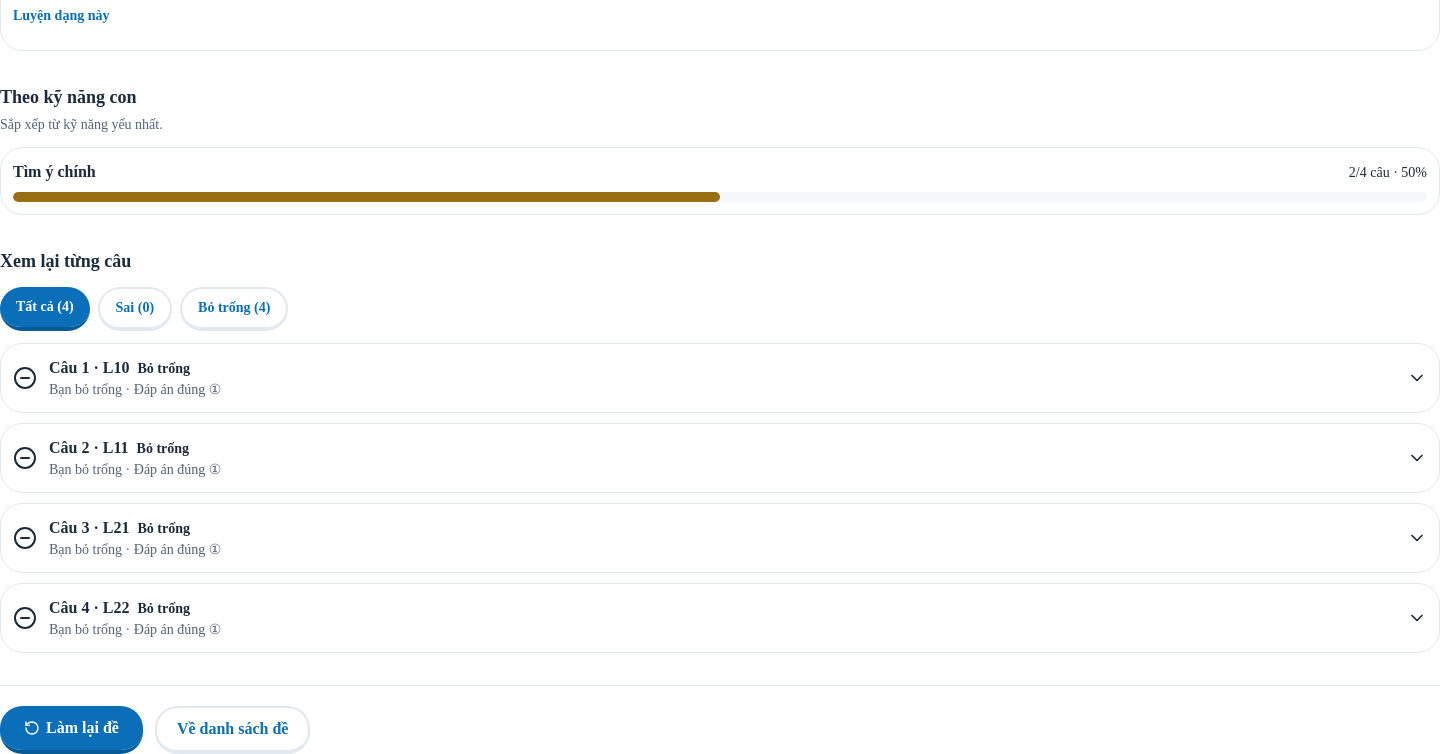
Test: ExamResultView: xem lại câu Nghe › có audio: trình phát luyện có công tắc bản dịch, bản dịch chỉ hiện sau khi bật
The width and height of the screenshot is (1440, 754).
(page scrolled)
Click the button "Câu 1 · L10Bỏ trống Bạn bỏ trống · Đáp án đúng ①" at [89, 368], box [1,344,1439,412]
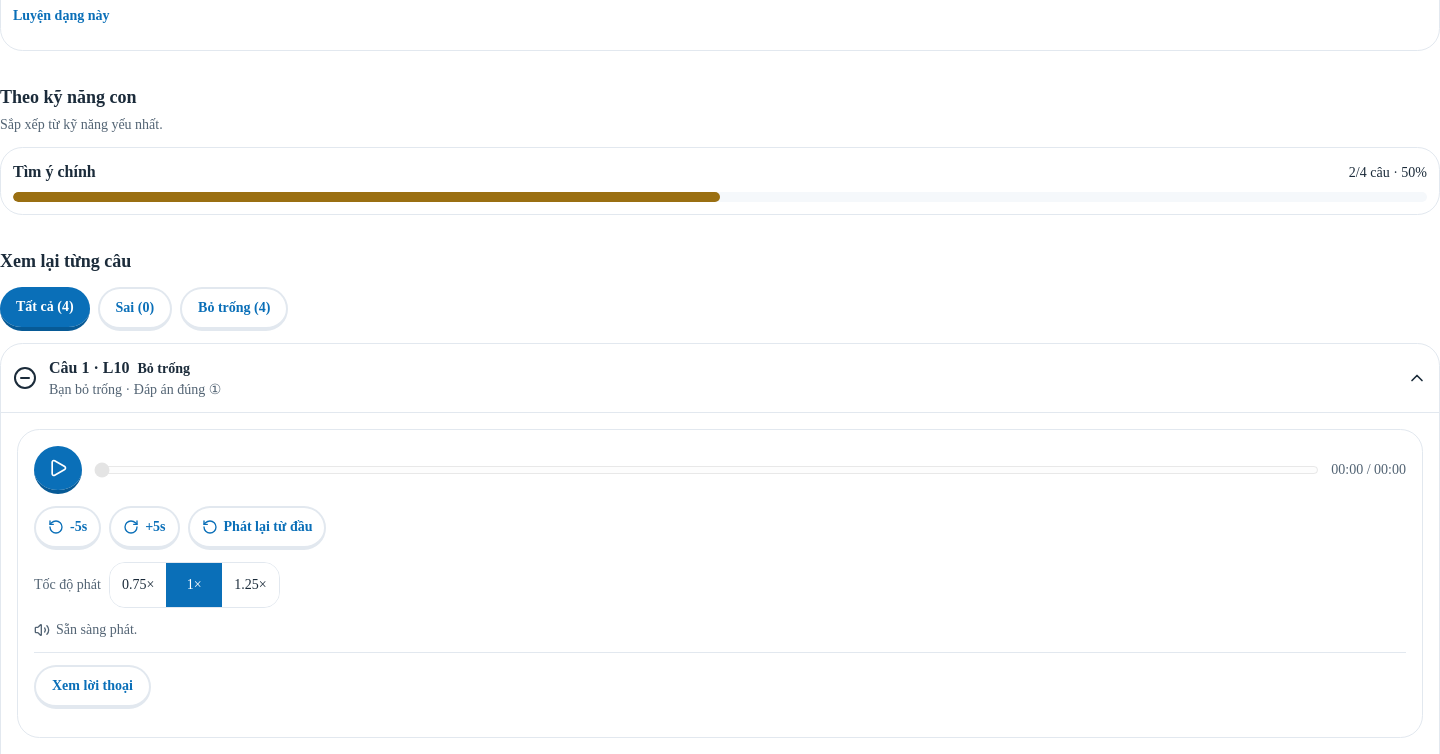
Expected: the text "Tôi muốn gửi chiếc váy này." is not shown
Click the button "Xem lời thoại" at [92, 687], box [34,665,151,709]
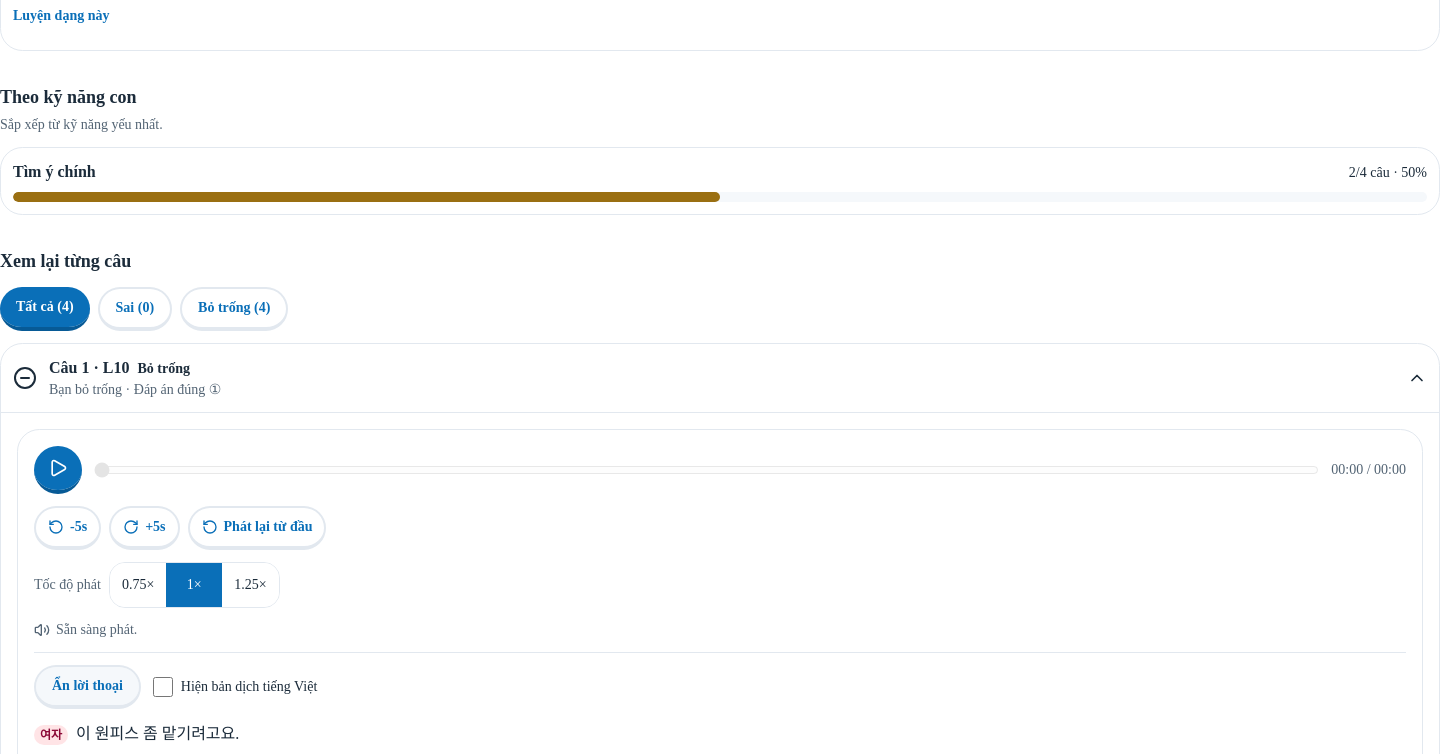
Click the checkbox labelled "Hiện bản dịch tiếng Việt" at [163, 687], box [153,677,173,697]
(page scrolled)
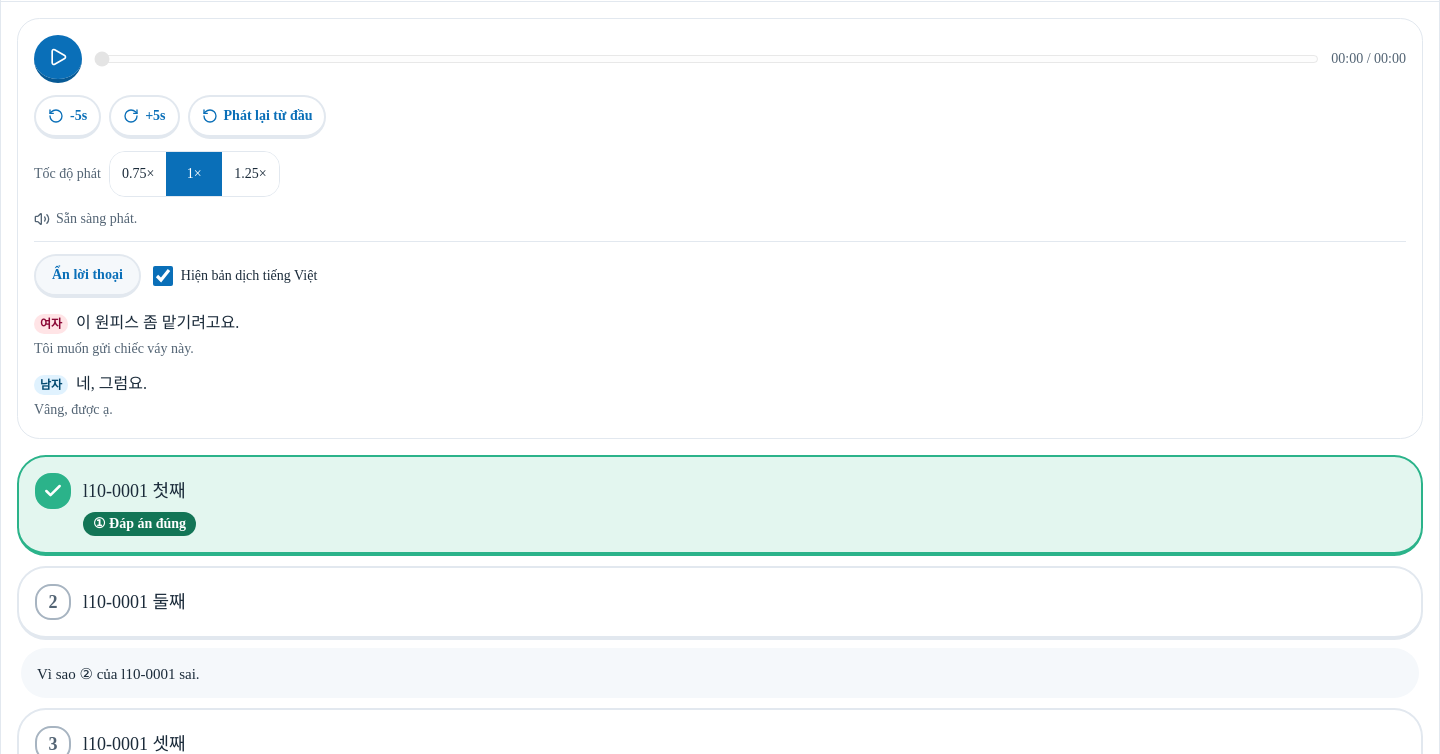
Expected: the text "Tôi muốn gửi chiếc váy này." is shown, [34,341,194,356]
